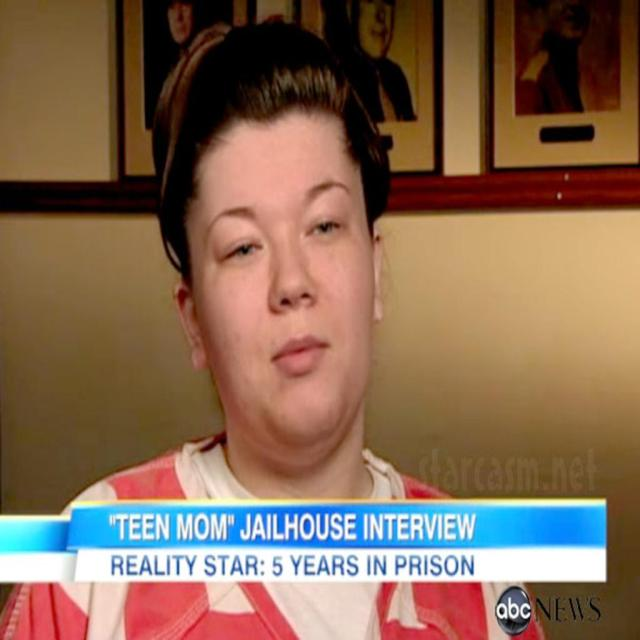Face: (197, 127, 375, 455)
